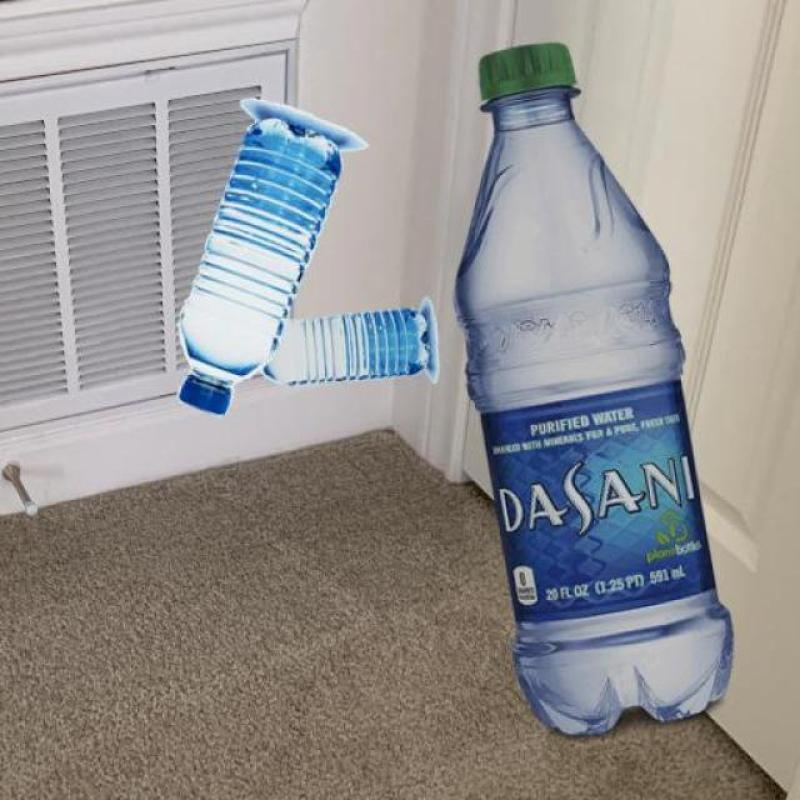botella: (454, 43, 736, 735), (174, 112, 343, 412), (265, 306, 429, 392)
